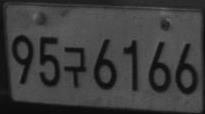1: (120, 39, 145, 91)
5: (38, 36, 62, 87)
6: (92, 39, 118, 91), (147, 40, 172, 93), (174, 42, 199, 94)
9: (10, 33, 34, 85)
구: (62, 46, 87, 88)
